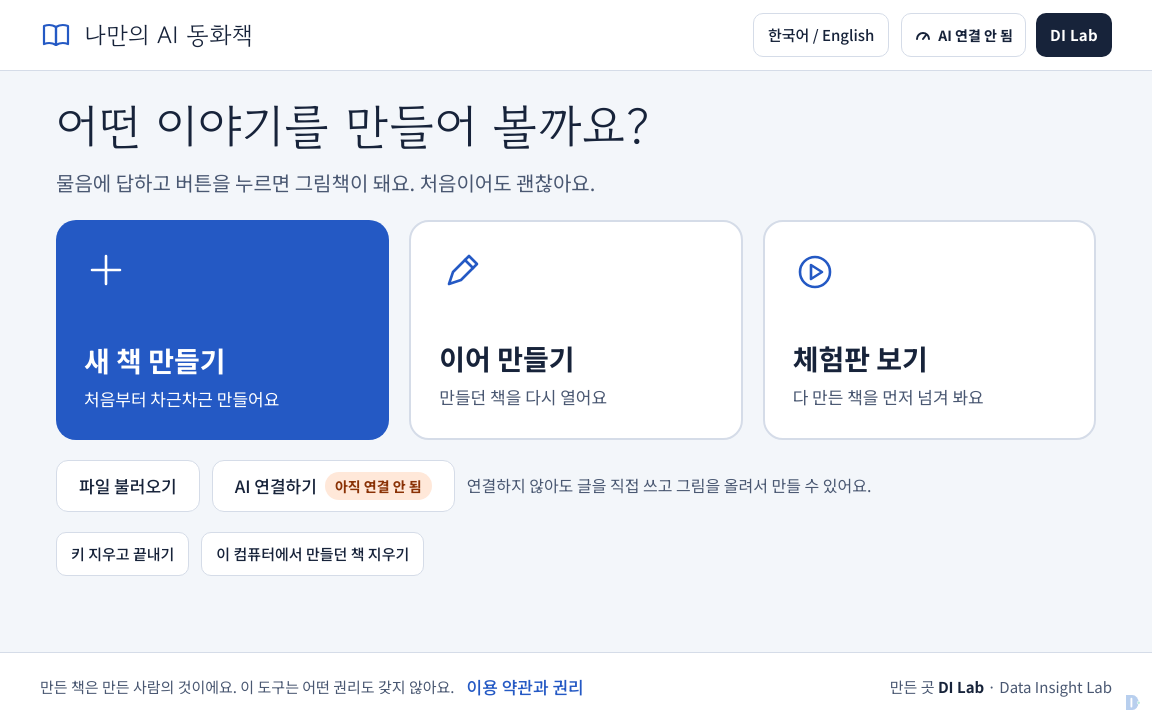
Test case: StartScreen › with a book in progress shows a confirm dialog that Esc closes
Click the button "새 책 만들기 처음부터 차근차근 만들어요" at (106, 270), box [56,220,389,440]
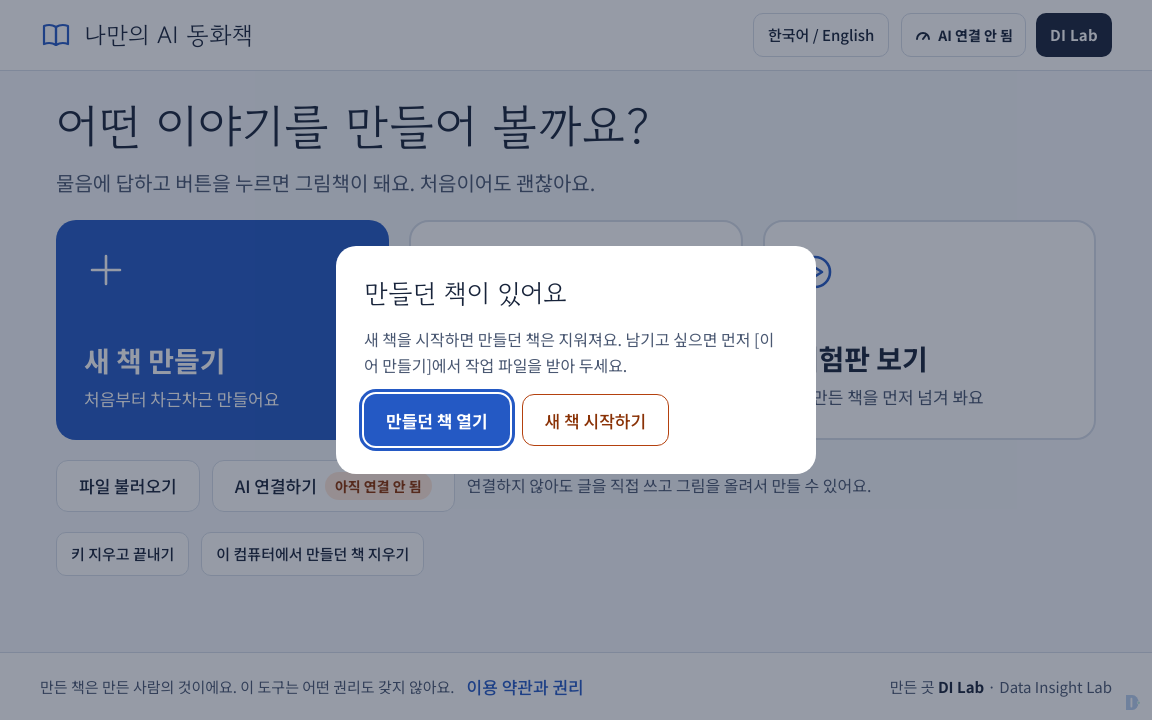
Expected: the text "새 책을 시작하면 만들던 책은 지워져요. 남기고 싶으면 먼저 [이어 만들기]에서 작업 파일을 받아 두세요." is shown, [364,327,788,378]
Press Escape
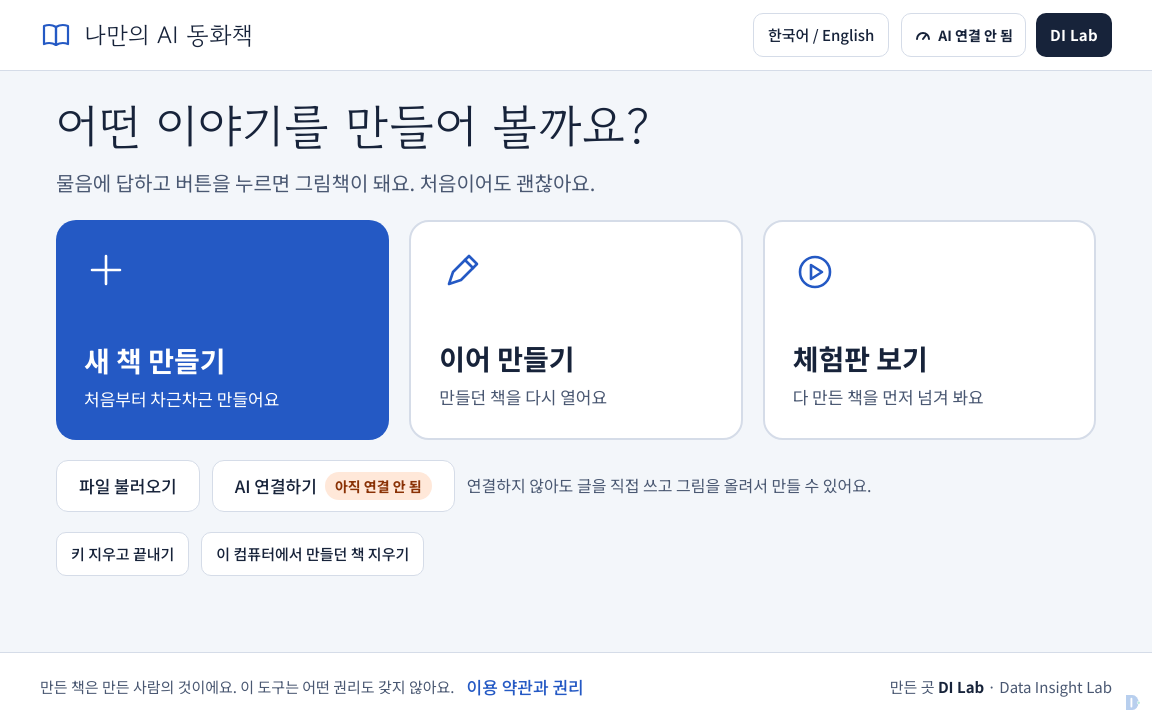
Expected: the dialog is gone
